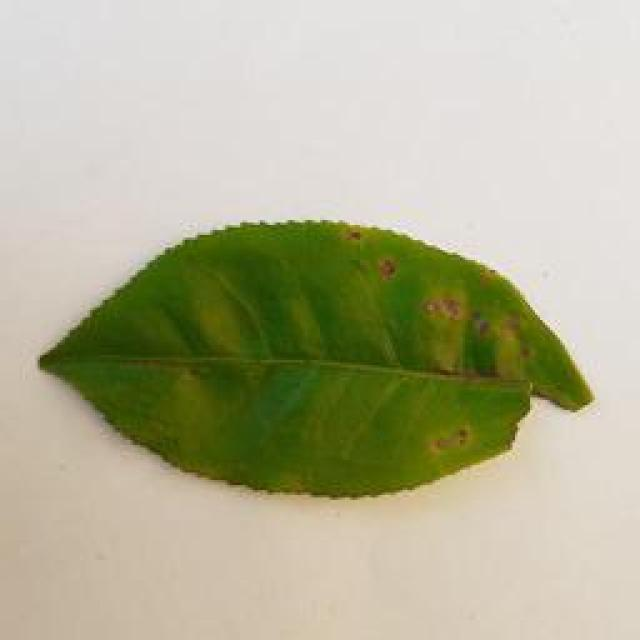Helopeltis: (30, 205, 609, 483)
